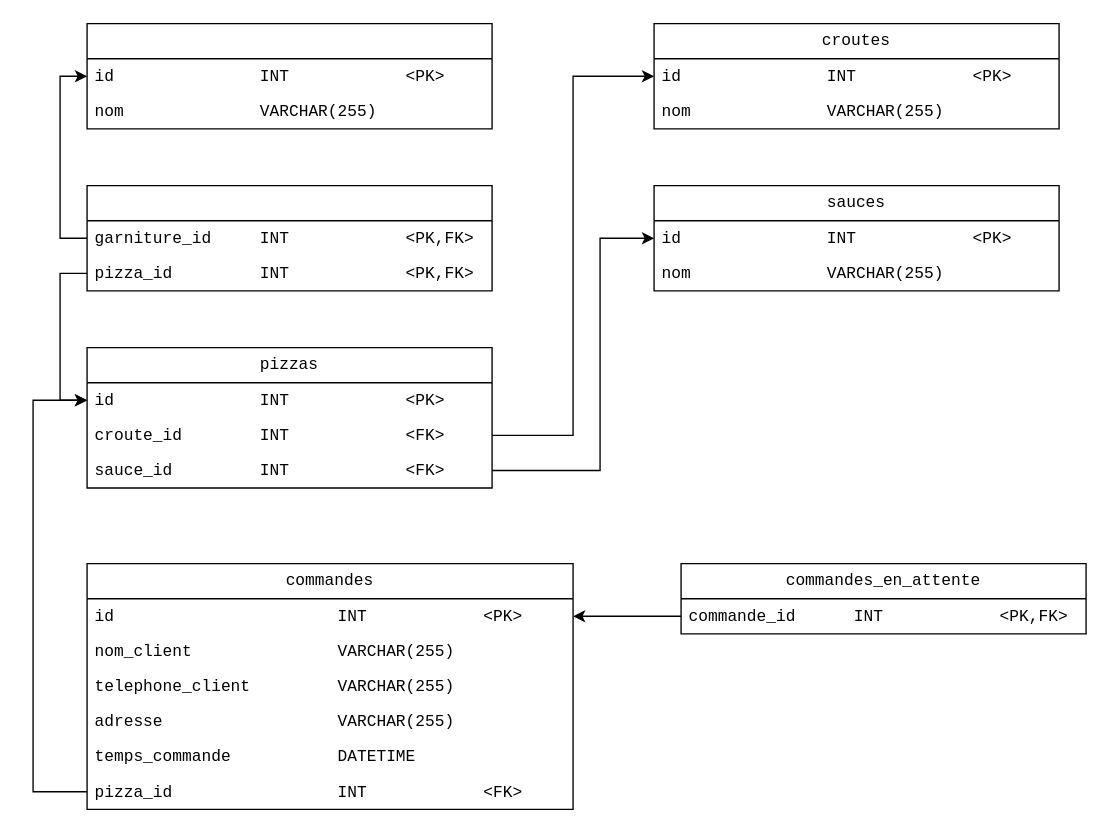
Image size: 1110x837. Some labels were removed from this diagram. Here are the shapes that lost their labels. From the top down, the box of each, then its label:
(86, 22, 492, 129): garnitures
(86, 184, 492, 291): pizzas_garnitures
